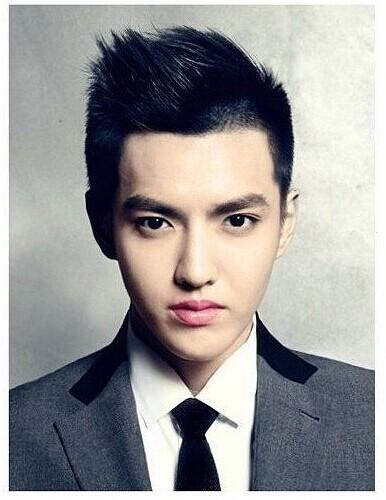unmask: (120, 143, 274, 355)
